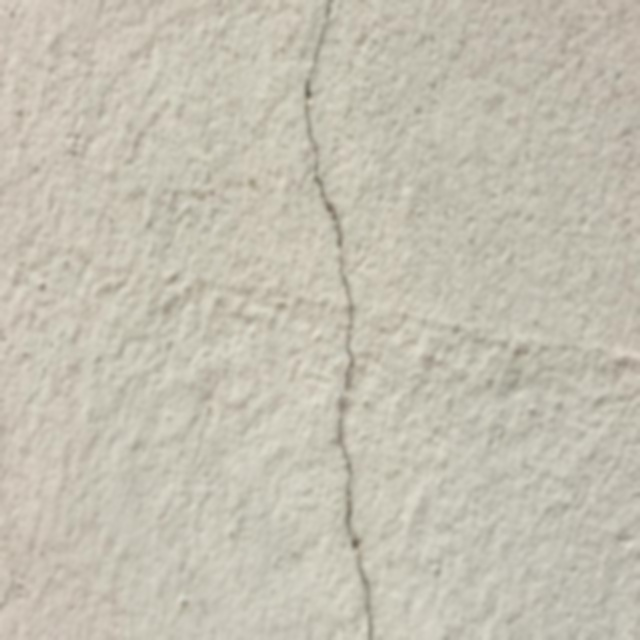SurfaceCrack: (264, 0, 408, 639)
